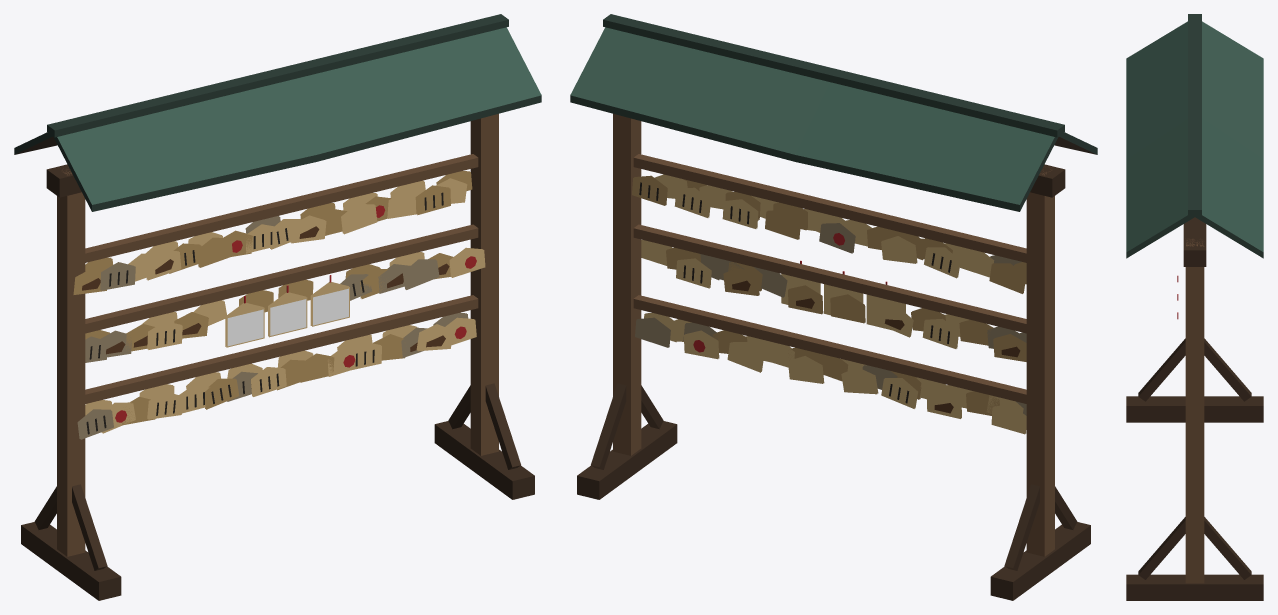
Rendered from ema_rack.glb.
The picture shows the model from 3 angles, left to right: view 1: azimuth 30°, elevation 25°; view 2: azimuth 150°, elevation 25°; view 3: azimuth 270°, elevation 25°; orthographic projection. The views are drawn at different scales.
Parts seen in each view (by area): view 1: ema_rack, ema_special_2, ema_special_3, ema_special_1; view 2: ema_rack; view 3: ema_rack.
Boxes of the visible parts, x1,y1,x2,y2 form: ema_rack: [14, 14, 541, 600]; ema_special_2: [268, 285, 307, 337]; ema_special_3: [310, 275, 349, 326]; ema_special_1: [225, 296, 264, 347]; ema_rack: [570, 14, 1097, 600]; ema_rack: [1126, 14, 1263, 600].
Bounding box in the file's own units: 2.02 × 1.9 × 0.6.
